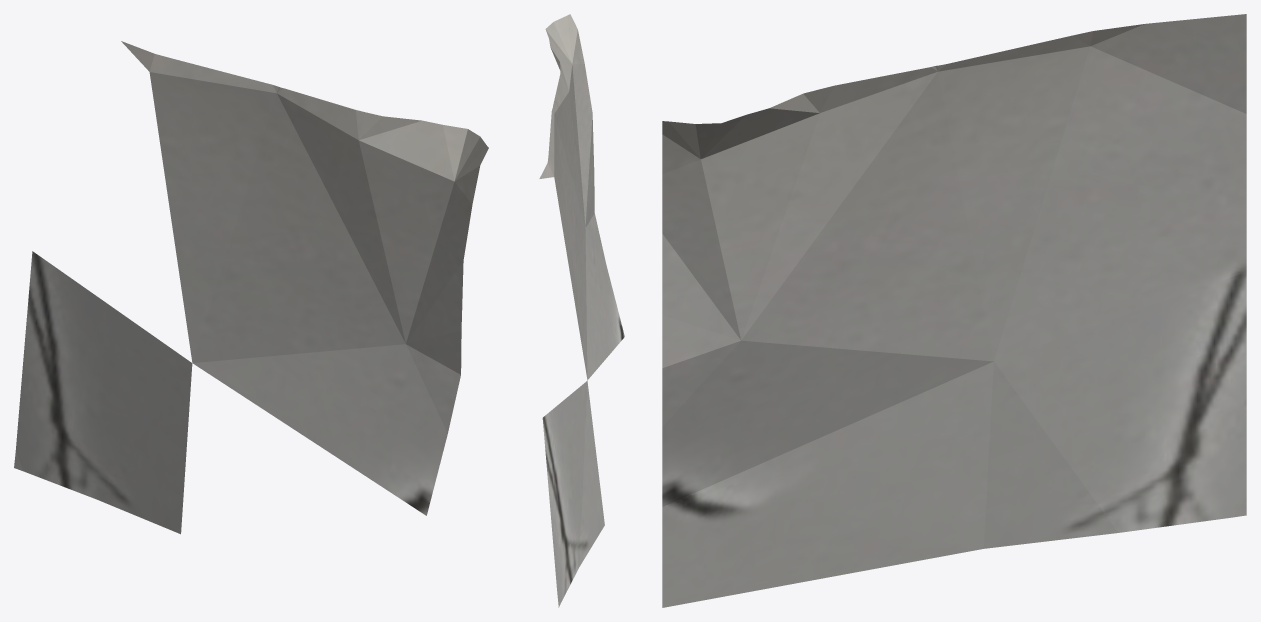
3 views of the same model, side by side, from view 1: azimuth 30°, elevation 25°; view 2: azimuth 150°, elevation 25°; view 3: azimuth 270°, elevation 25° (orthographic). The views are drawn at different scales.
Bounding box in the file's own units: 0.4676 × 0.8373 × 0.8373.
3 materials, 3 textured.
